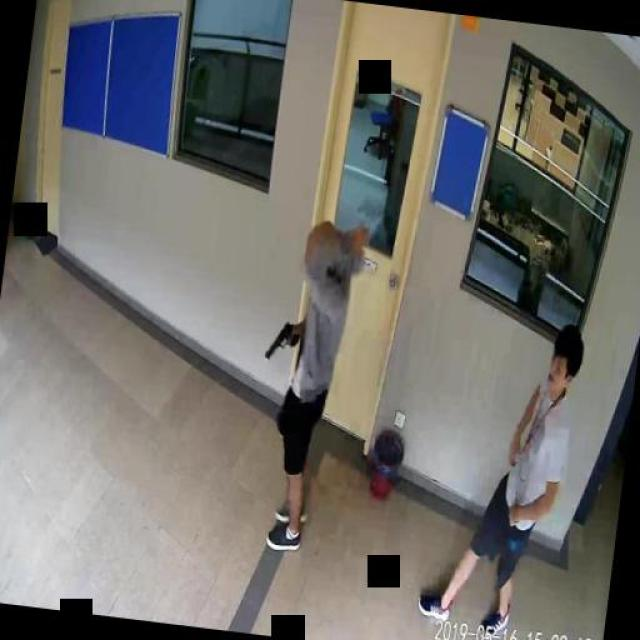gun: (264, 316, 300, 362)
